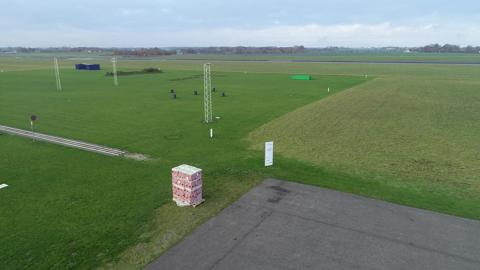RockwoolPallet: (171, 163, 204, 207)
